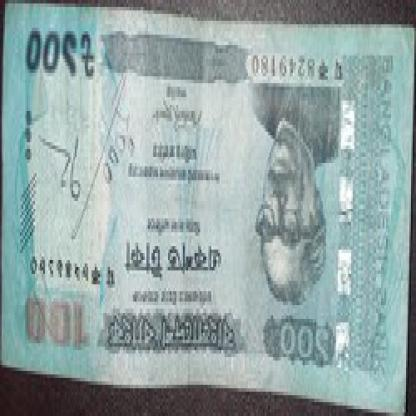one hundred taka: (270, 308, 336, 371), (25, 20, 80, 86)
